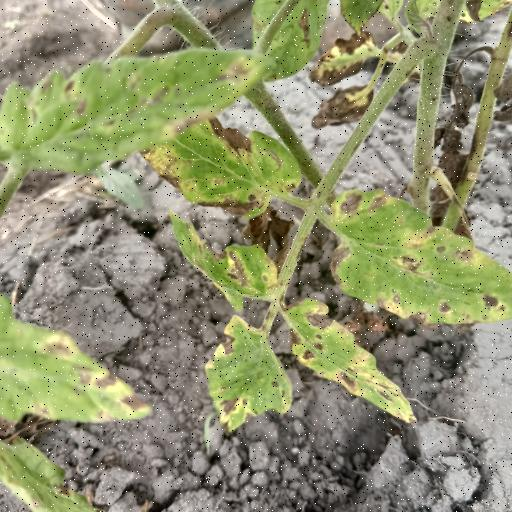Tomato_Brown_Spots: (0, 42, 274, 178), (327, 188, 512, 328), (128, 114, 309, 218), (293, 299, 417, 423), (204, 316, 295, 434), (174, 220, 286, 304)
